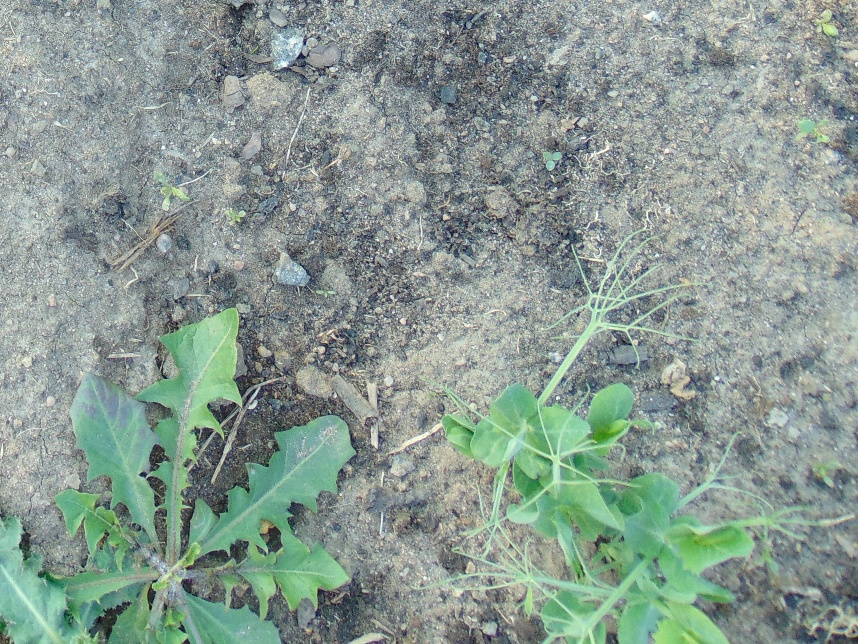crop: (420, 275, 786, 644)
weed: (1, 309, 354, 644)
